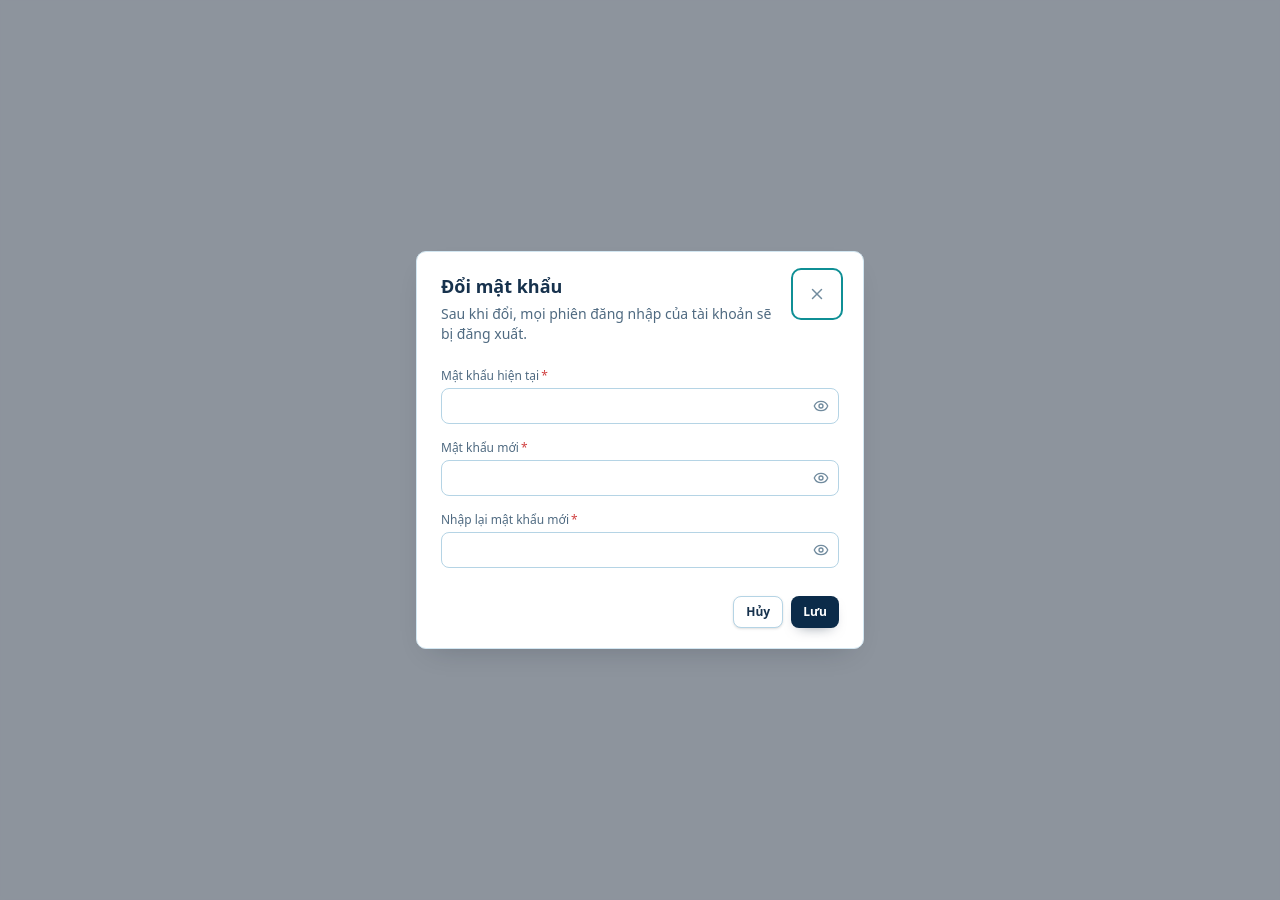
Scenario: ChangePasswordDialog › AC-5: shows a wrong current password under its field and keeps the form and the session
Type "sai-mat-khau" into the password field labelled "Mật khẩu hiện tại*" at (640, 406), box left=441, top=388, right=839, bottom=424
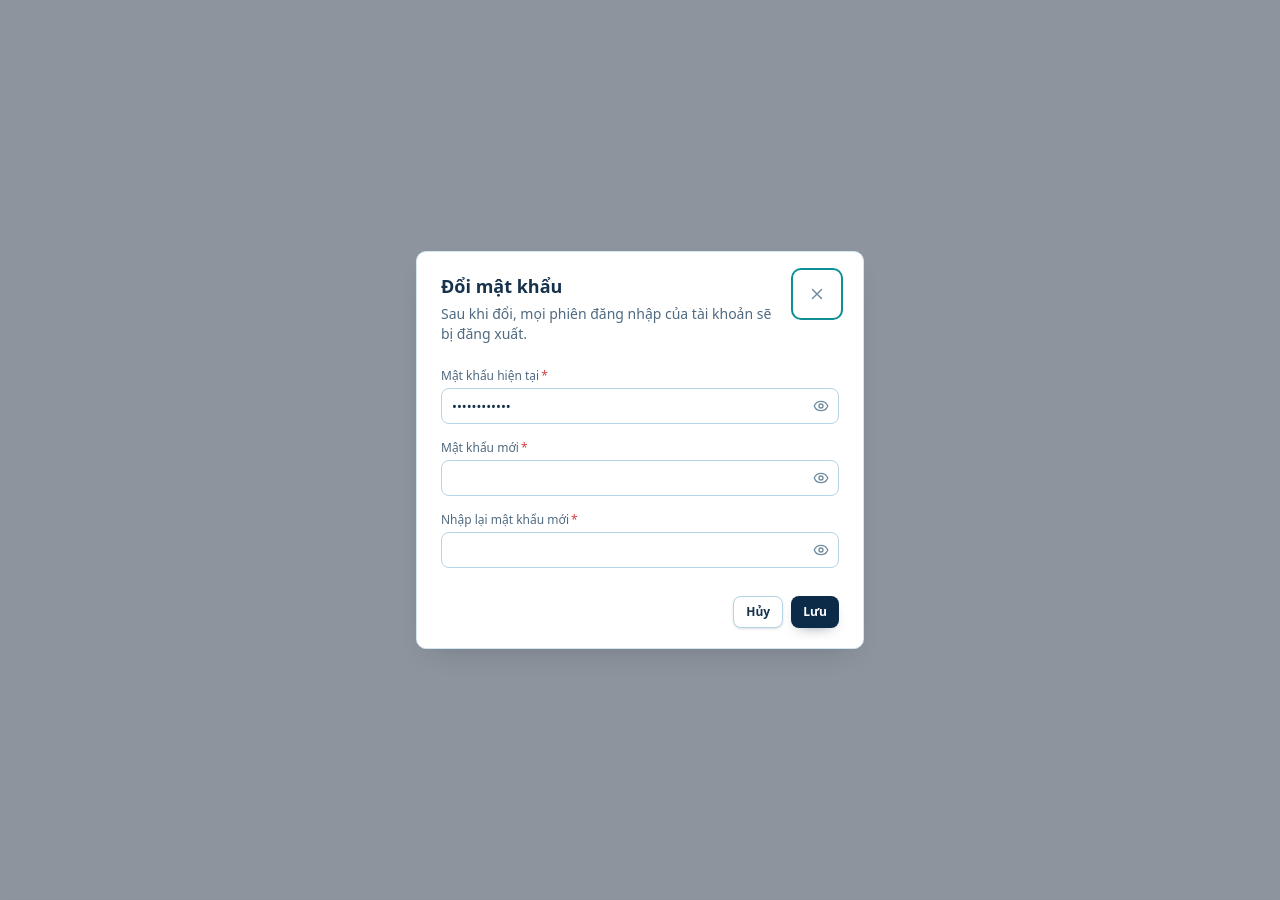
Type "Mat-khau-moi-2" into the password field labelled "Mật khẩu mới*" at (640, 478), box left=441, top=460, right=839, bottom=496
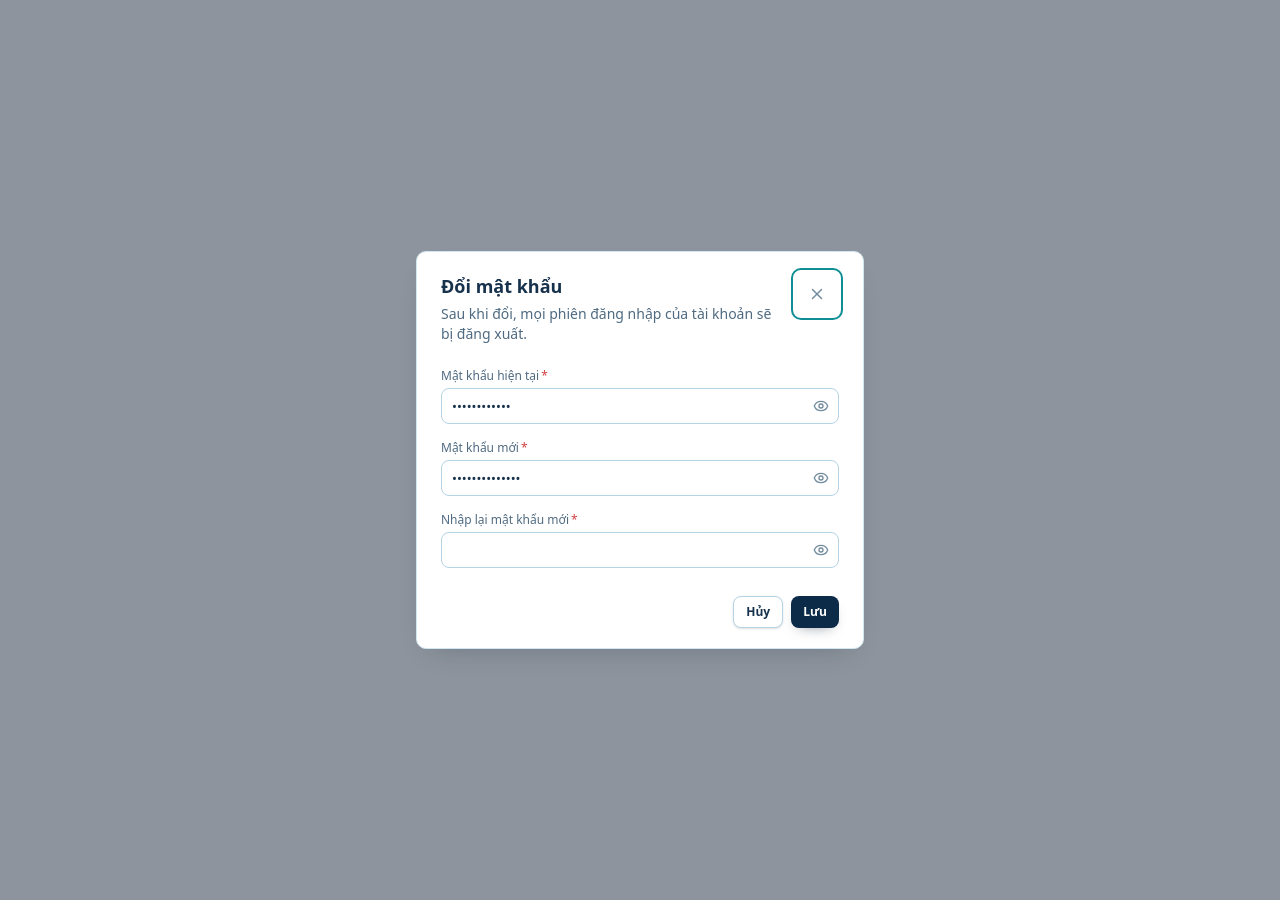
Type "Mat-khau-moi-2" into the password field labelled "Nhập lại mật khẩu mới*" at (640, 550), box left=441, top=532, right=839, bottom=568
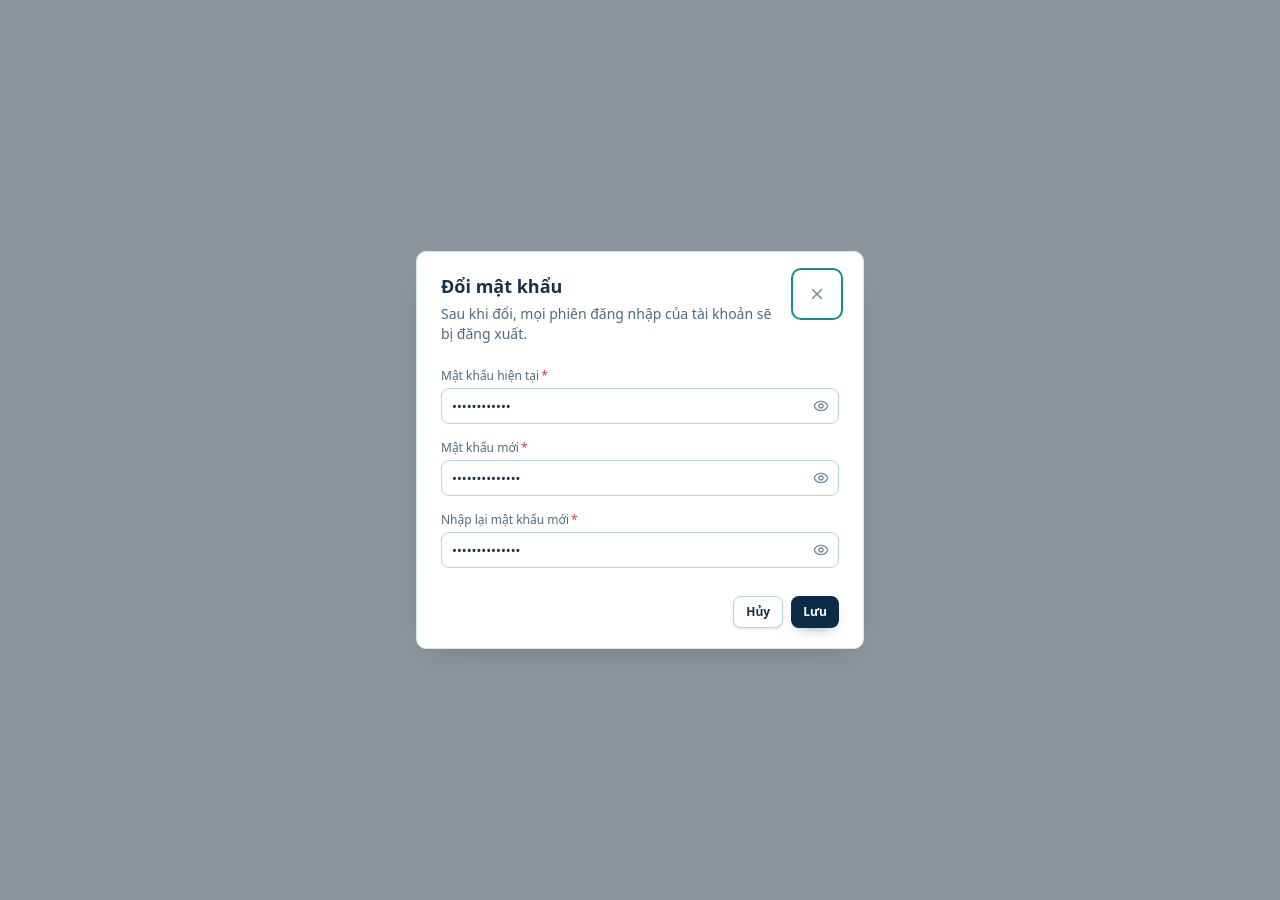
Click the button "Lưu" at (815, 612), box left=791, top=596, right=839, bottom=628
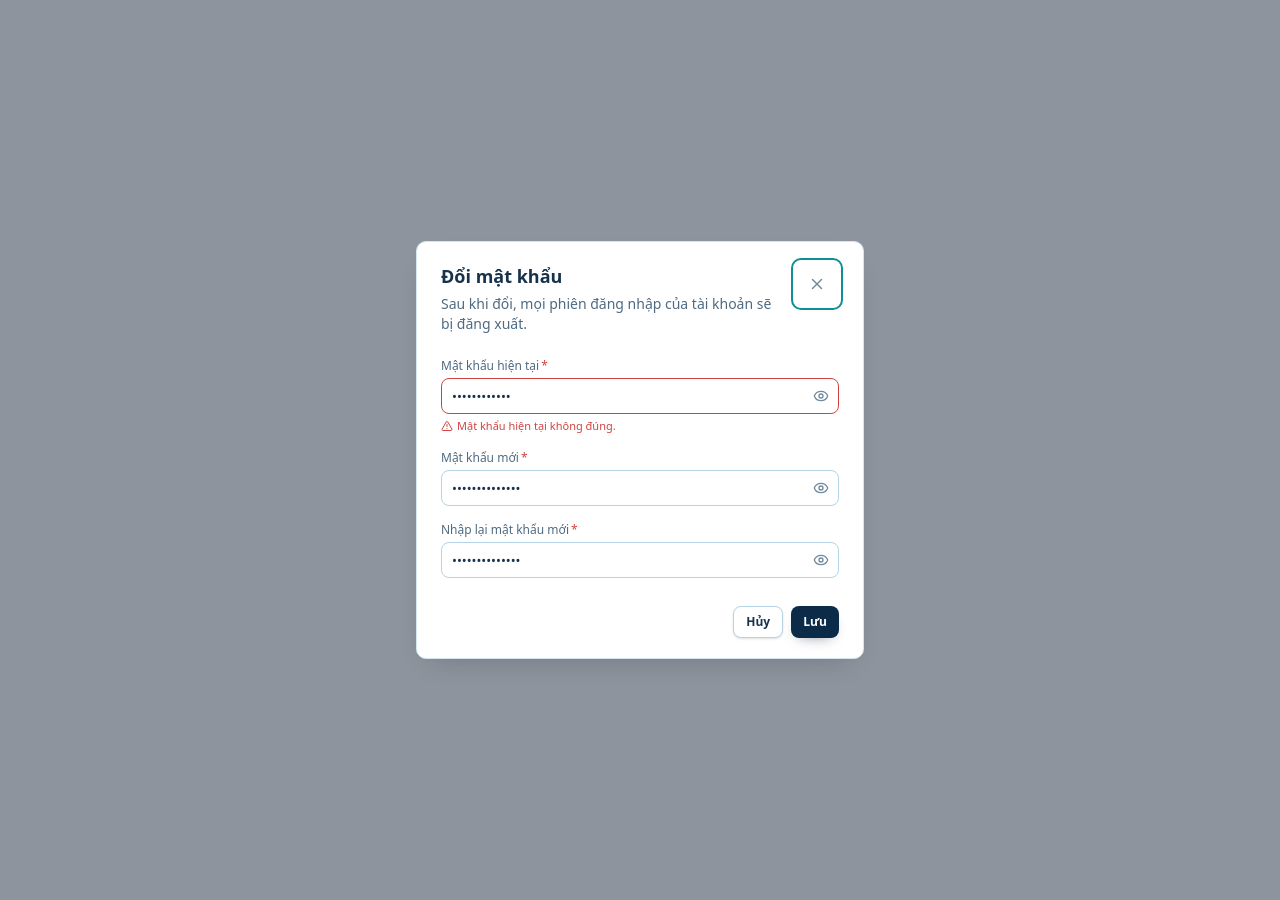
Now the text "Mật khẩu hiện tại không đúng." is shown, box left=441, top=418, right=616, bottom=433
